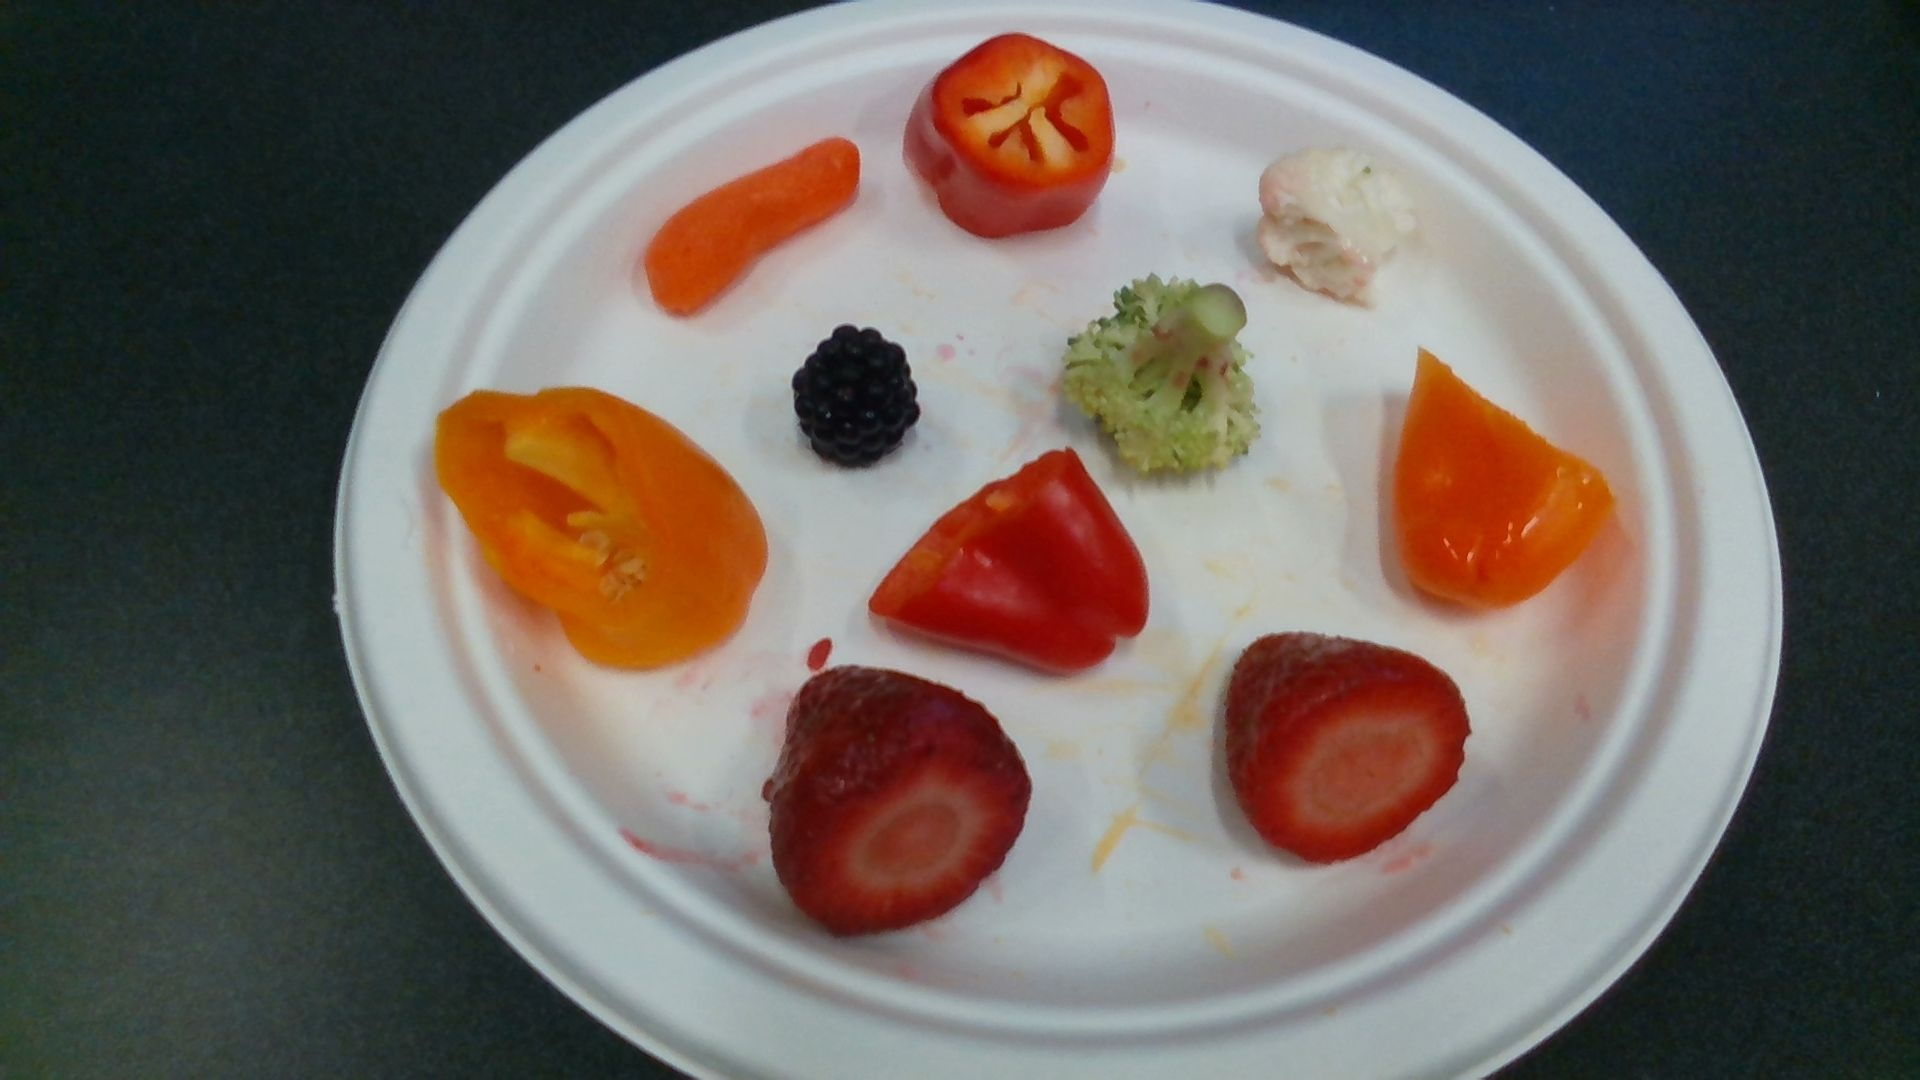bell_pepper: (439, 390, 767, 673), (872, 455, 1150, 678), (1393, 348, 1607, 608), (902, 33, 1116, 236)
blackberry: (794, 328, 920, 468)
broccoli: (1067, 280, 1259, 469)
carrot: (644, 140, 860, 315)
cauliflower: (1261, 142, 1419, 311)
strawberry: (771, 671, 1029, 938), (1225, 633, 1464, 861)
